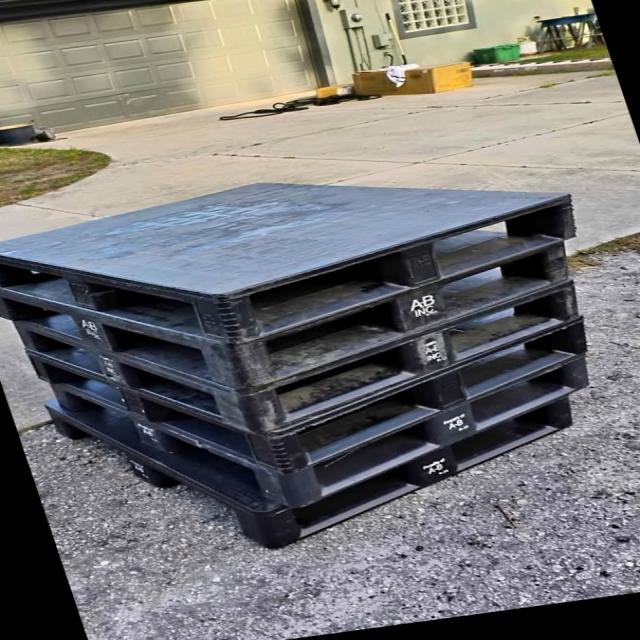non-igps: (4, 267, 596, 445), (0, 175, 601, 350), (22, 308, 604, 480), (0, 231, 584, 397), (44, 346, 598, 516), (38, 387, 581, 554)
